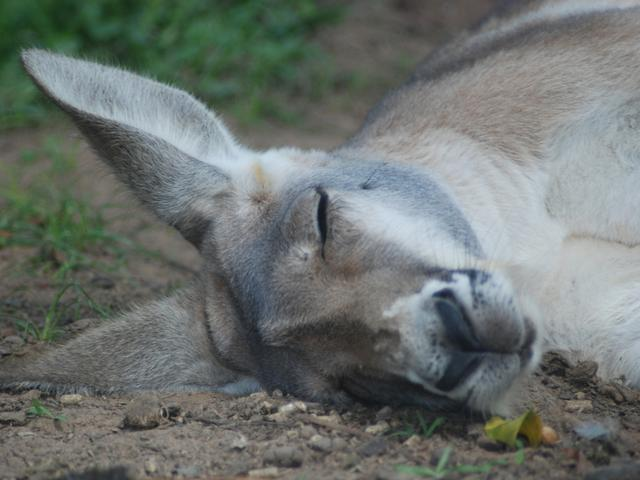kangaroo: (6, 13, 640, 439)
